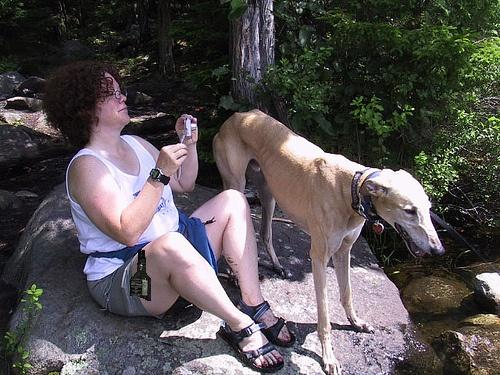tampered: (131, 250, 151, 301)
